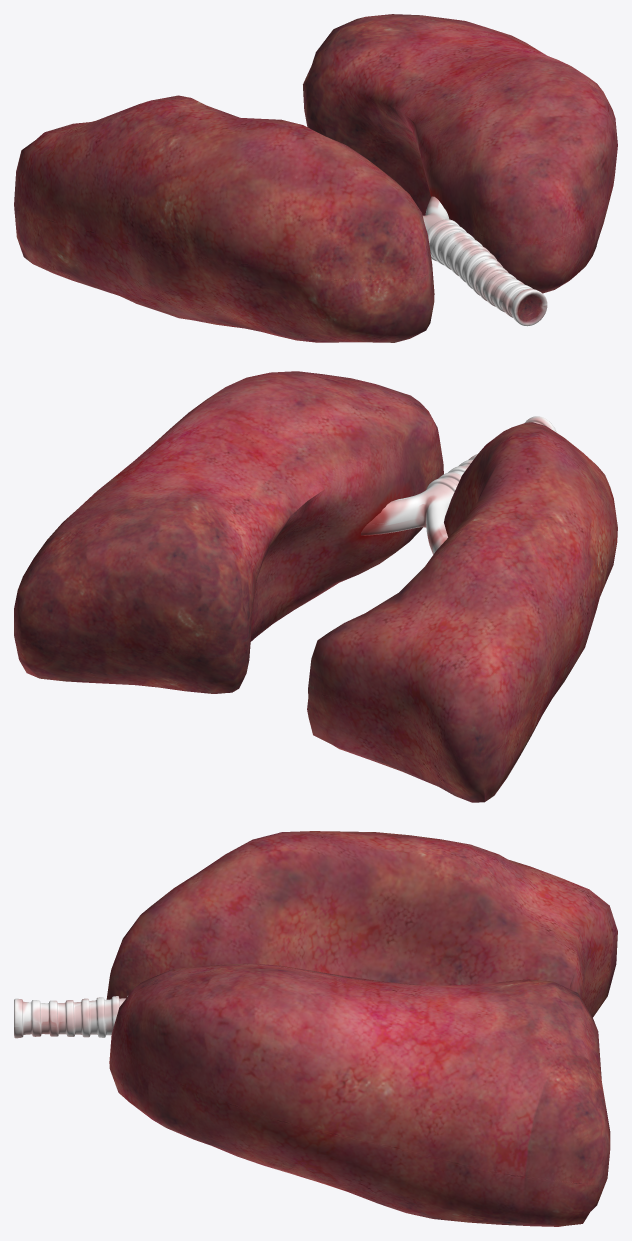
The model's file is lungs.obj.
The picture shows the model from 3 angles, top to bottom: view 1: azimuth 30°, elevation 25°; view 2: azimuth 150°, elevation 25°; view 3: azimuth 270°, elevation 25°; orthographic projection. The views are drawn at different scales.
Visible parts, largest first — view 1: Lungs; view 2: Lungs; view 3: Lungs.
Part boxes in pixels (bbox=[...]): Lungs: bbox=[14, 14, 617, 342]; Lungs: bbox=[14, 371, 617, 802]; Lungs: bbox=[14, 831, 617, 1226].
Size of the model in its own units: 10.23 by 5.02 by 10.76.
